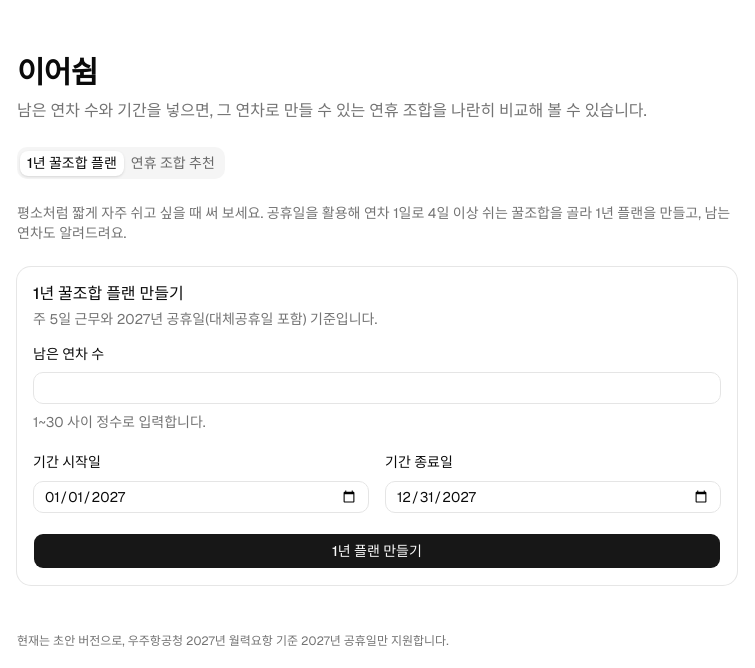
Test: 연휴 조합 추천 화면 › 안내가 없는 조건에서는 안내를 보여주지 않는다
Click the tab "연휴 조합 추천" at (173, 163), box top-left (124, 150), bottom-right (222, 176)
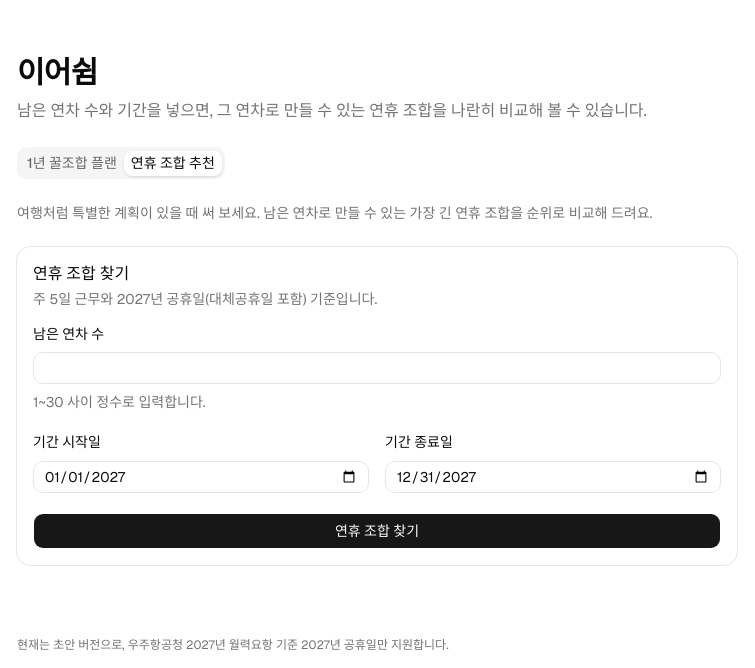
Type "2" into the field labelled "남은 연차 수" at (377, 368), box top-left (33, 352), bottom-right (721, 384)
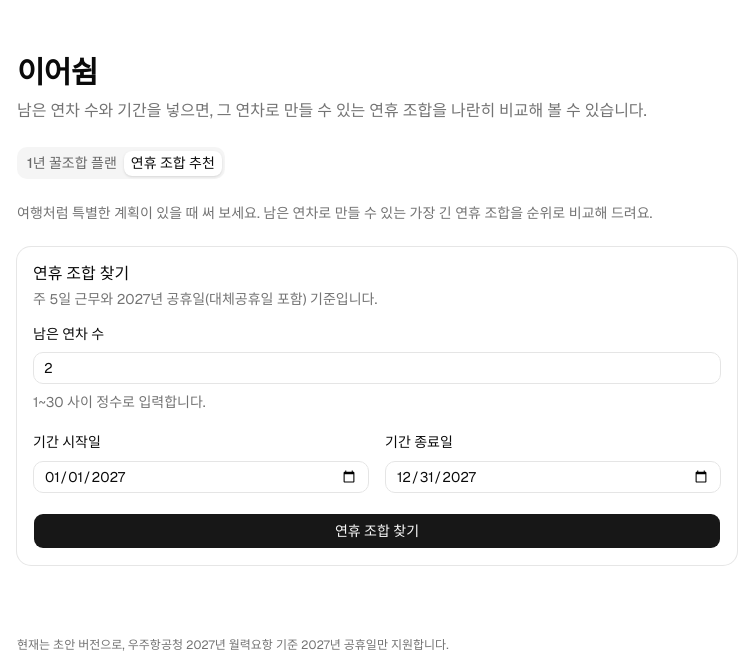
Click the button "연휴 조합 찾기" at (377, 530), box top-left (33, 512), bottom-right (721, 548)
(page scrolled)
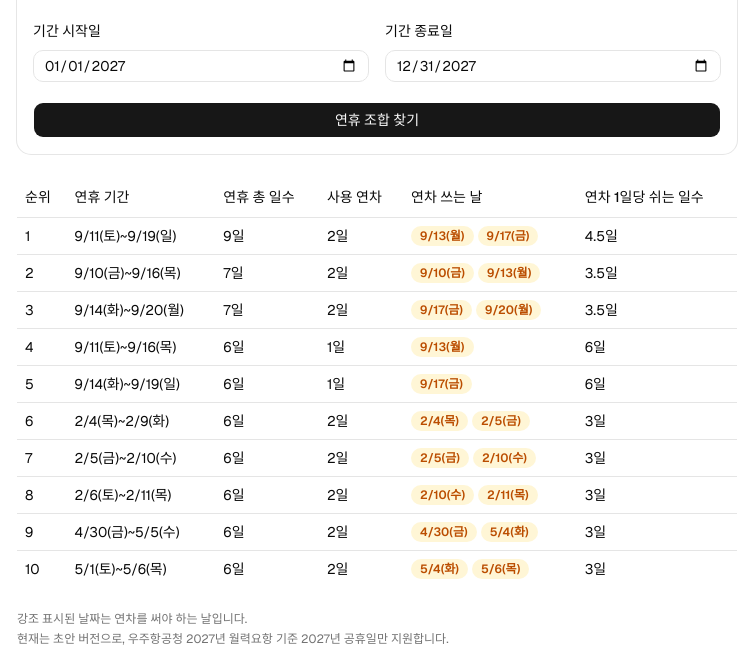
Now the table is shown, box top-left (17, 178), bottom-right (737, 587)
